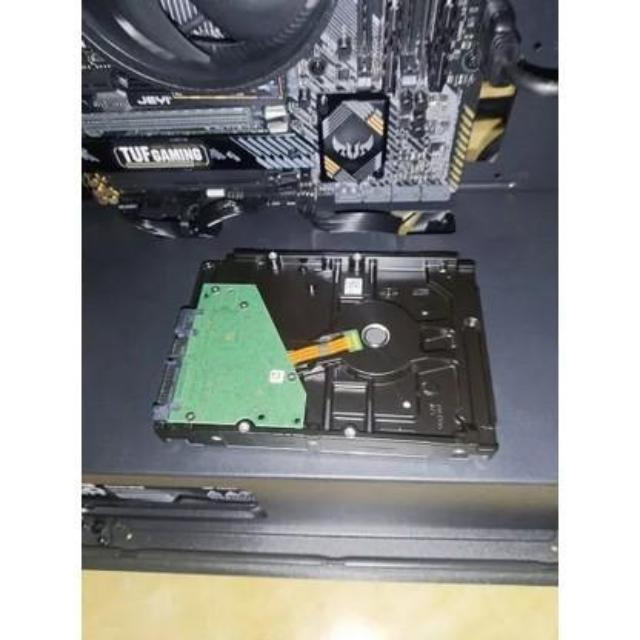DISK: (157, 232, 505, 478)
